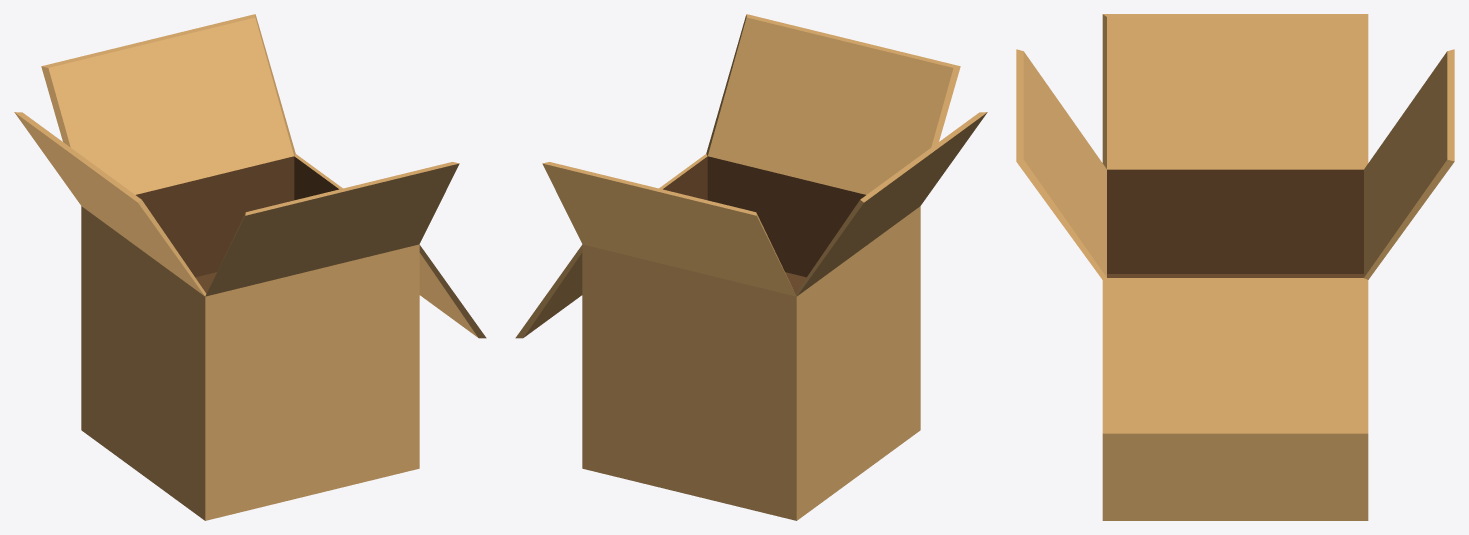
The picture shows the model from 3 angles, left to right: view 1: azimuth 30°, elevation 25°; view 2: azimuth 150°, elevation 25°; view 3: azimuth 270°, elevation 25°; orthographic projection. The views are drawn at different scales.
Visible parts, largest first — view 1: Cube; view 2: Cube; view 3: Cube.
Boxes of the visible parts, x1=… form: Cube: x1=14, y1=14, x2=486, y2=520; Cube: x1=515, y1=14, x2=987, y2=520; Cube: x1=1016, y1=14, x2=1454, y2=520.
Bounding box in the file's own units: 827 × 758 × 839.
